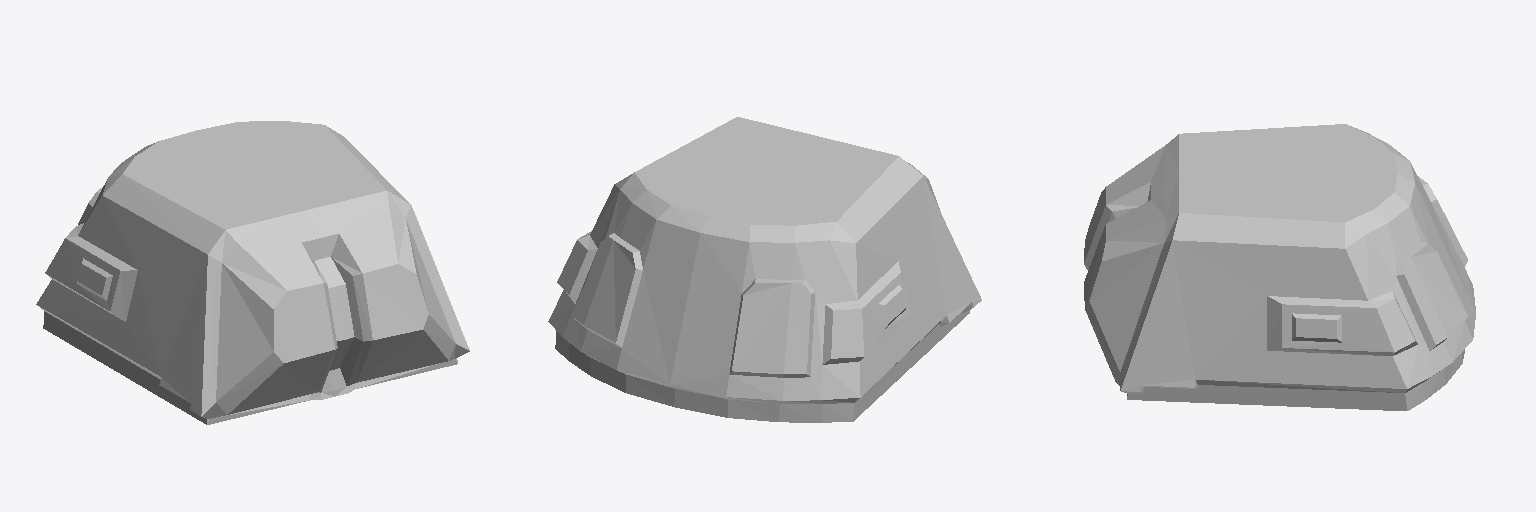
The model's file is gun4-1.obj.
The picture shows the model from 3 angles: view 1: azimuth 30°, elevation 25°; view 2: azimuth 150°, elevation 25°; view 3: azimuth 270°, elevation 25°; orthographic projection.
Parts seen in each view (by area): view 1: Tai_HeavyCruiserGun; view 2: Tai_HeavyCruiserGun; view 3: Tai_HeavyCruiserGun.
Boxes of the visible parts, x1,y1,x2,y2 form: Tai_HeavyCruiserGun: [36, 121, 469, 424]; Tai_HeavyCruiserGun: [548, 117, 981, 422]; Tai_HeavyCruiserGun: [1084, 124, 1475, 410].
Size of the model in its own units: 39.37 by 19.94 by 42.83.